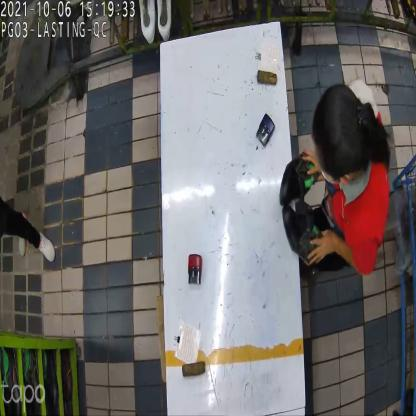shoes: (277, 153, 322, 265)
stamp: (184, 252, 204, 287), (256, 113, 275, 148)
